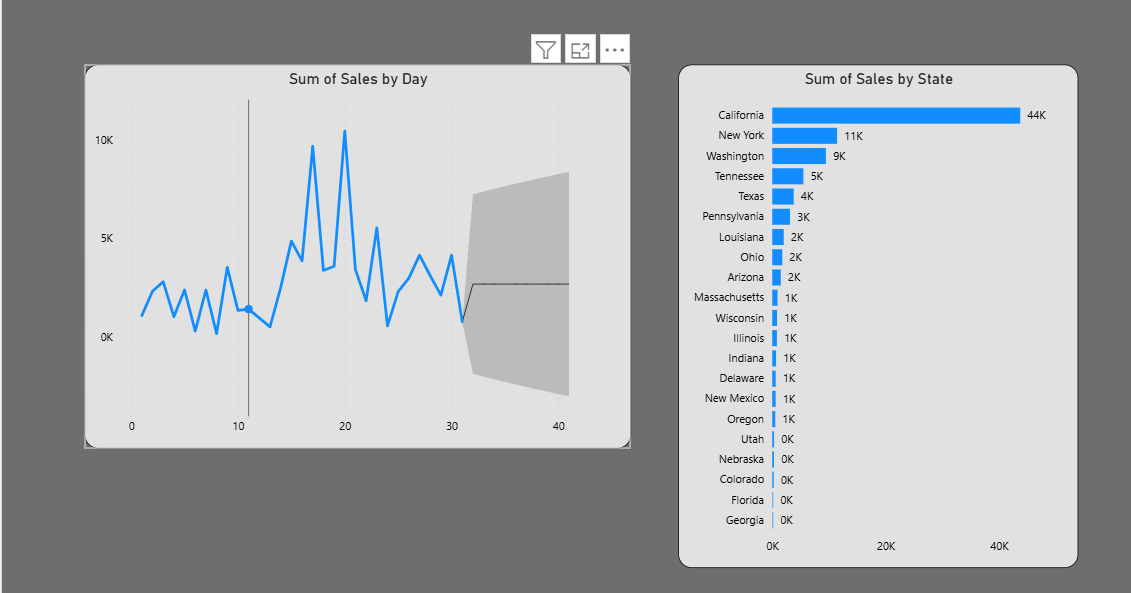

The dashboard page shown, as its layout file describes it:
{"tool":"powerbi","page":{"name":"Page 2","canvas":[1280,720],"ordinal":1},"visuals":[{"type":"lineChart","fields":{"Y":["Sum(SuperStore-Sales.Sales)"],"Category":["SuperStore-Sales.Order Date.Variation.Date Hierarchy.Day"]},"box":[90.6,118,599.7,421.3],"z":0},{"type":"clusteredBarChart","fields":{"Y":["Sum(SuperStore-Sales.Sales)"],"Category":["SuperStore-Sales.State"]},"box":[742.4,118,439.1,553],"z":1}]}

Visuals, with their boxes on the page's 1280x720 design canvas (x1, y1, x2, y2). These are canvas units, not pixel positions in the 1131x593 screenshot, which may show the page scaled, cropped or inside an application window:
lineChart - Sum(SuperStore-Sales.Sales) x SuperStore-Sales.Order Date.Variation.Date Hierarchy.Day: [left=91, top=118, right=690, bottom=539]
clusteredBarChart - Sum(SuperStore-Sales.Sales) x SuperStore-Sales.State: [left=742, top=118, right=1182, bottom=671]
